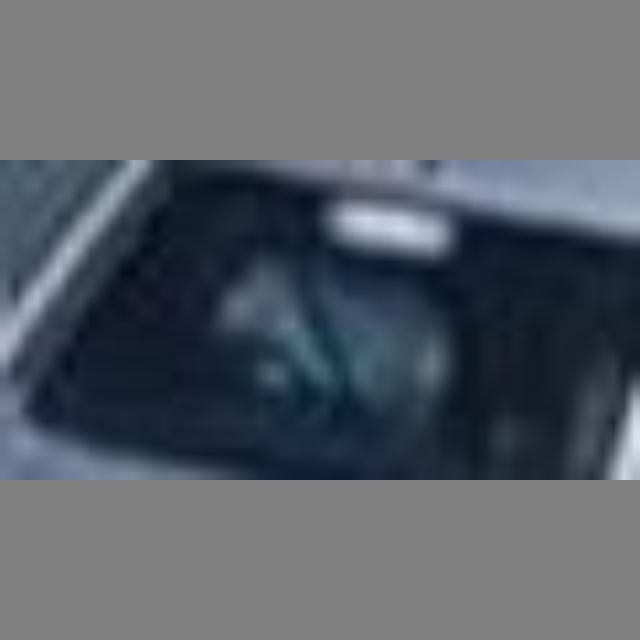pakai: (203, 203, 459, 437)
